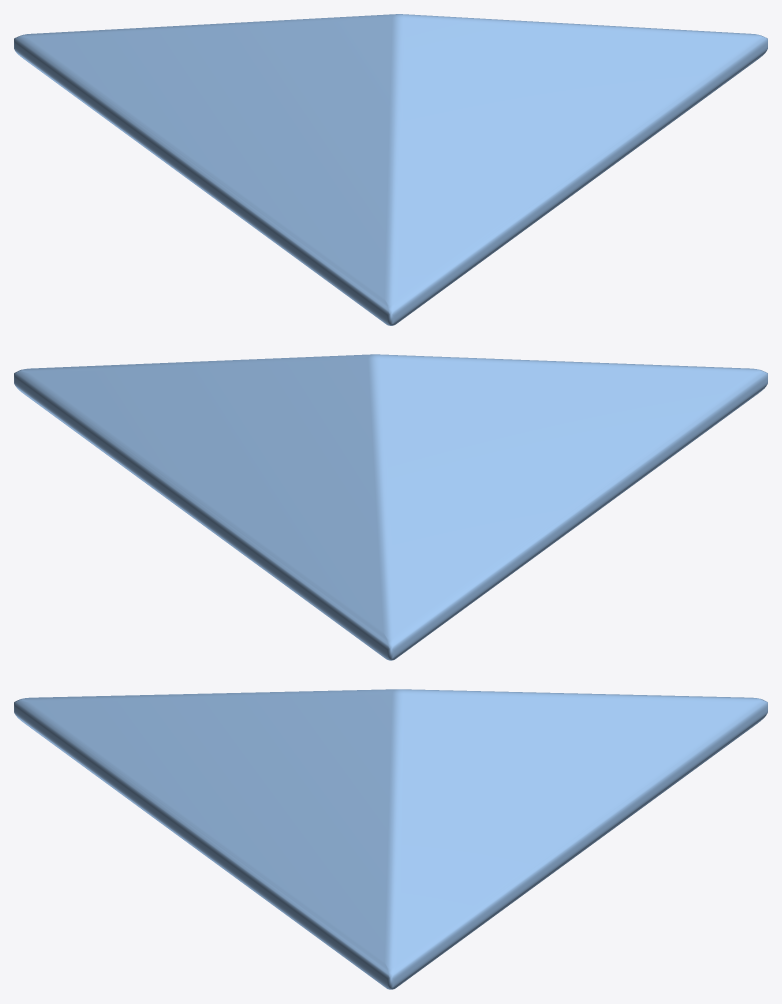
The model's file is book.glb.
3 views of the same model, one above another, from view 1: azimuth 30°, elevation 25°; view 2: azimuth 150°, elevation 25°; view 3: azimuth 270°, elevation 25° (orthographic).
Visible parts, largest first — view 1: decorative_set_vol005_hamid_shk44.001; view 2: decorative_set_vol005_hamid_shk44.001; view 3: decorative_set_vol005_hamid_shk44.001.
Boxes of the visible parts, left/top/right/bottom form: decorative_set_vol005_hamid_shk44.001: left=14, top=14, right=767, bottom=325; decorative_set_vol005_hamid_shk44.001: left=14, top=354, right=767, bottom=660; decorative_set_vol005_hamid_shk44.001: left=14, top=689, right=767, bottom=989.
Bounding box in the file's own units: 1.79 × 0.7812 × 2.07.
